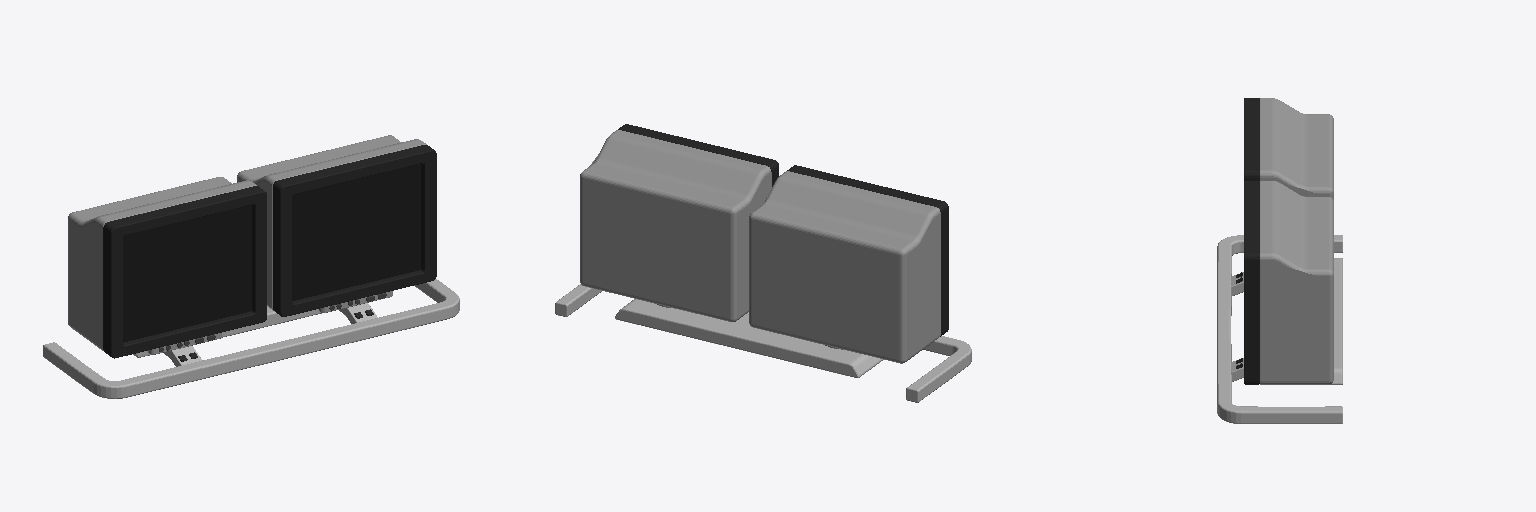
Rendered from monitors.obj.
3 views of the same model, side by side, from view 1: azimuth 30°, elevation 25°; view 2: azimuth 150°, elevation 25°; view 3: azimuth 270°, elevation 25° (orthographic).
Visible parts, largest first — view 1: Monitor_02; view 2: Monitor_02; view 3: Monitor_02.
Part boxes in pixels (left/top/right/bottom): Monitor_02: left=43, top=135, right=459, bottom=398; Monitor_02: left=555, top=124, right=971, bottom=402; Monitor_02: left=1217, top=98, right=1342, bottom=423.
Bounding box in the file's own units: 914 × 386 × 274.